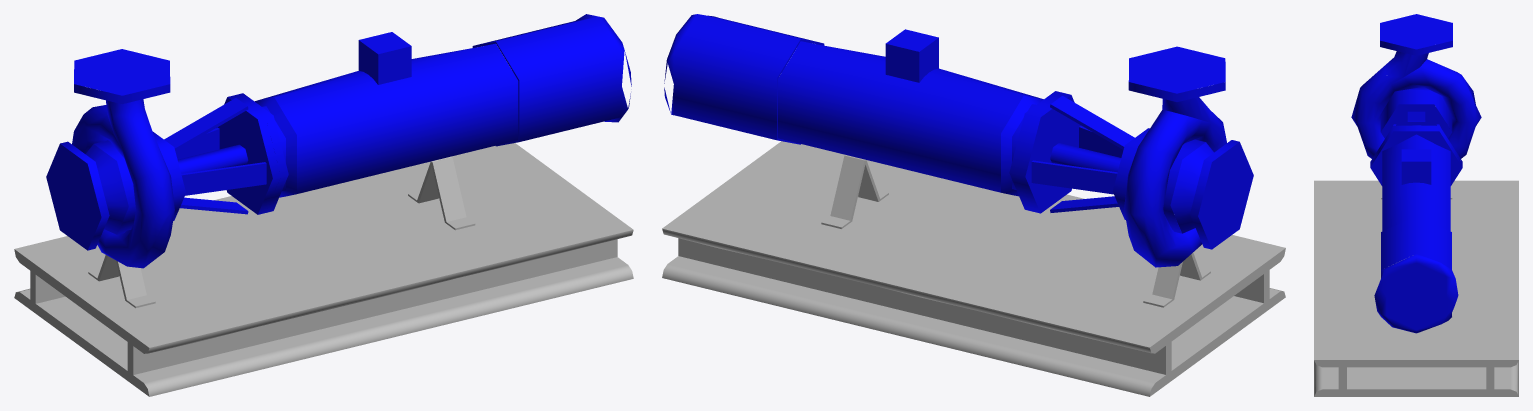
3 renders of one model, left to right at view 1: azimuth 30°, elevation 25°; view 2: azimuth 150°, elevation 25°; view 3: azimuth 270°, elevation 25°, orthographic. The views are drawn at different scales.
Visible parts, largest first — view 1: 卧式水泵1 [1164090][bbd7b01a-cf78-4157-886d-1d15003f219d-0011c33; view 2: 卧式水泵1 [1164090][bbd7b01a-cf78-4157-886d-1d15003f219d-0011c33; view 3: 卧式水泵1 [1164090][bbd7b01a-cf78-4157-886d-1d15003f219d-0011c33.
Part boxes in pixels (<box>): 卧式水泵1 [1164090][bbd7b01a-cf78-4157-886d-1d15003f219d-0011c33: <box>14,14,633,396</box>; 卧式水泵1 [1164090][bbd7b01a-cf78-4157-886d-1d15003f219d-0011c33: <box>662,14,1285,396</box>; 卧式水泵1 [1164090][bbd7b01a-cf78-4157-886d-1d15003f219d-0011c33: <box>1314,14,1518,396</box>.
Bounding box in the file's own units: 1.33 × 0.6332 × 0.5852.
